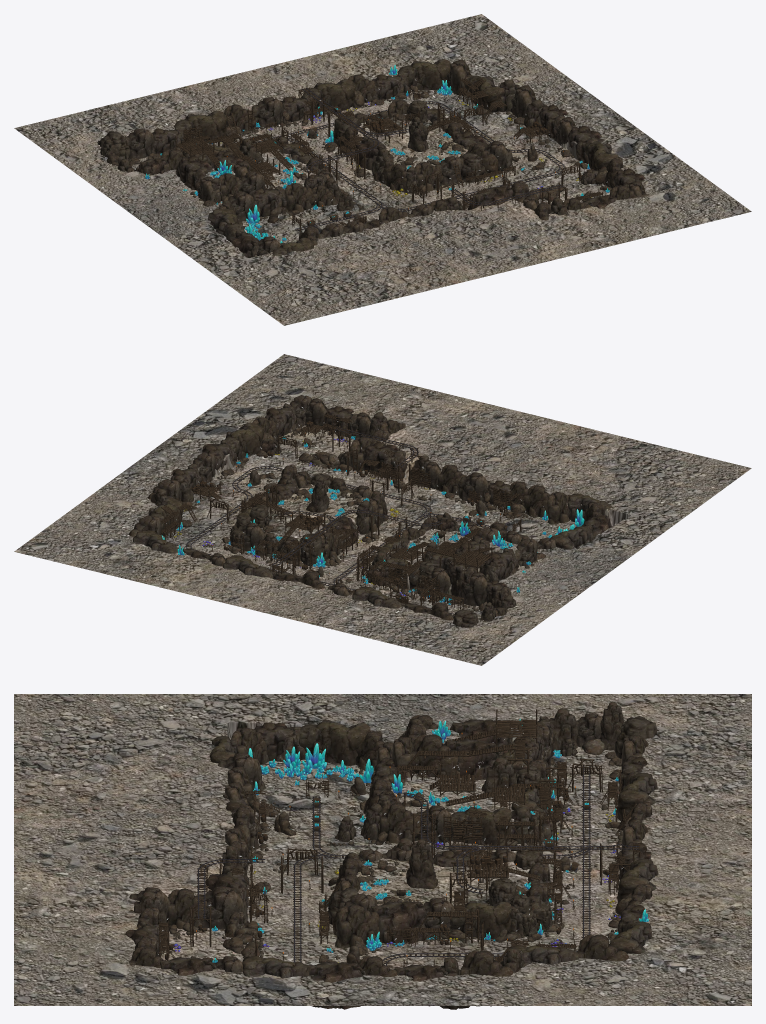
File: cave-yo.glb
3 views of the same model, one above another, from view 1: azimuth 30°, elevation 25°; view 2: azimuth 150°, elevation 25°; view 3: azimuth 270°, elevation 25° (orthographic). The views are drawn at different scales.
Visible parts, largest first — view 1: cave, rock_half_01__13_, rock_half_01__12_, rock_half_01__10_, rock_half_04__16_, rock_half_04__26_, rock_half_01__14_, rock_half_04__15_, rock_half_01__21_, rock_half_03__15_, rock_half_03__46_, rock_half_04__22_ (+16 smaller); view 2: cave, rock_half_04__20_, rock_half_01__17_, rock_half_04__16_, rock_half_03__7_, rock_half_01__21_, rock_half_03__52_, rock_half_04__21_, rock_half_03__37_, rock_half_03__39_, rock_04__4_, rock_half_01__12_ (+11 smaller); view 3: cave, rock_half_01__21_, rock_half_04__17_, rock_half_01__15_, rock_half_03__25_, rock_half_01__11_, rock_half_03__32_, rock_half_03__29_, rock_half_04__29_, rock_half_04__19_, rock_half_03__12_, rock_02__4_ (+40 smaller).
Part boxes in pixels (x1,y1,x2,y2): cave: [14, 14, 751, 325]; rock_half_01__13_: [397, 59, 450, 90]; rock_half_01__12_: [301, 79, 355, 111]; rock_half_01__10_: [174, 110, 226, 141]; rock_half_04__16_: [176, 155, 212, 190]; rock_half_04__26_: [250, 186, 286, 216]; rock_half_01__14_: [464, 75, 504, 112]; rock_half_04__15_: [372, 73, 411, 99]; rock_half_01__21_: [208, 208, 245, 240]; rock_half_03__15_: [251, 97, 283, 128]; rock_half_03__46_: [284, 183, 314, 212]; rock_half_04__22_: [567, 125, 603, 163]; cave: [14, 354, 751, 665]; rock_half_04__20_: [363, 442, 406, 479]; rock_half_01__17_: [224, 422, 264, 460]; rock_half_04__16_: [479, 548, 518, 581]; rock_half_03__7_: [460, 571, 488, 606]; rock_half_01__21_: [550, 526, 593, 549]; rock_half_03__52_: [523, 485, 549, 517]; rock_half_04__21_: [265, 403, 297, 437]; rock_half_03__37_: [547, 492, 570, 524]; rock_half_03__39_: [458, 472, 490, 501]; rock_04__4_: [446, 561, 476, 597]; rock_half_01__12_: [223, 555, 273, 578]; cave: [14, 694, 751, 1005]; rock_half_01__21_: [299, 720, 370, 765]; rock_half_04__17_: [369, 901, 428, 943]; rock_half_01__15_: [449, 901, 511, 939]; rock_half_03__25_: [334, 904, 379, 948]; rock_half_01__11_: [449, 807, 511, 845]; rock_half_03__32_: [196, 886, 248, 929]; rock_half_03__29_: [410, 734, 459, 778]; rock_half_04__29_: [254, 722, 306, 762]; rock_half_04__19_: [444, 738, 501, 780]; rock_half_03__12_: [377, 802, 420, 843]; rock_02__4_: [406, 839, 438, 888].
Size of the model in its own units: 350 by 40.51 by 350.
8 materials, 8 textured.
